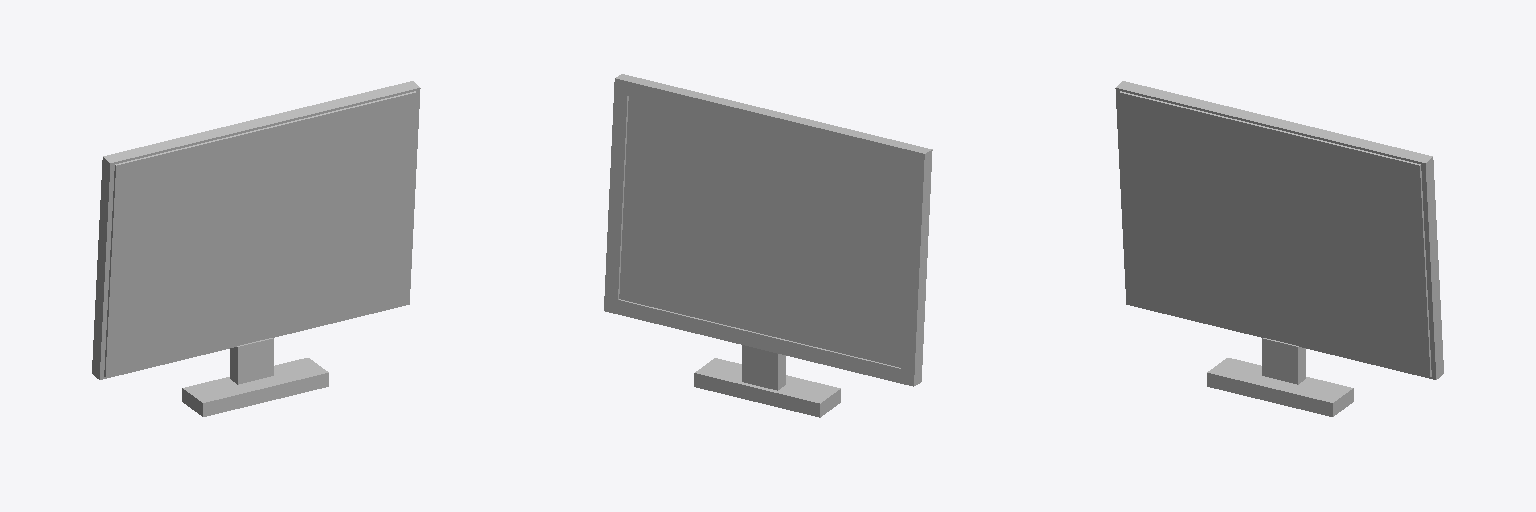
The model's file is terminal.obj.
The picture shows the model from 3 angles: view 1: azimuth 30°, elevation 25°; view 2: azimuth 150°, elevation 25°; view 3: azimuth 330°, elevation 25°; orthographic projection.
Parts seen in each view (by area): view 1: cube; view 2: cube; view 3: cube.
Boxes of the visible parts, x1,y1,x2,y2 form: cube: [92, 81, 420, 416]; cube: [604, 74, 932, 417]; cube: [1115, 81, 1443, 416].
Bounding box in the file's own units: 0.8625 × 0.7368 × 0.1027.